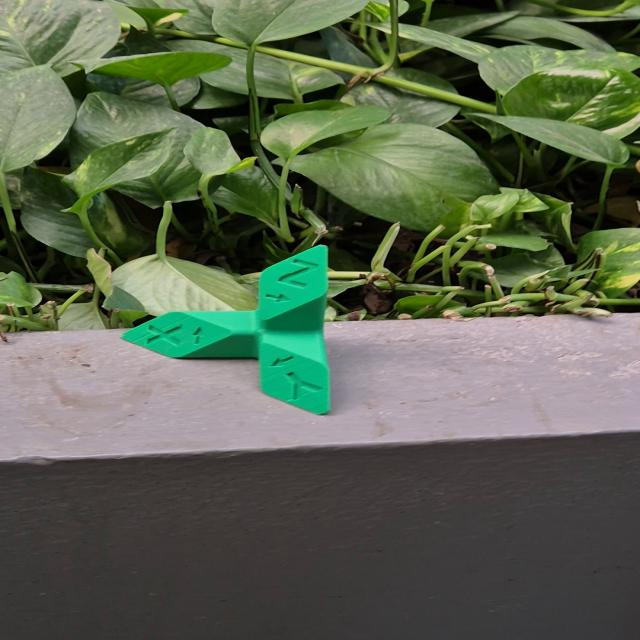objects: (117, 244, 333, 416)
